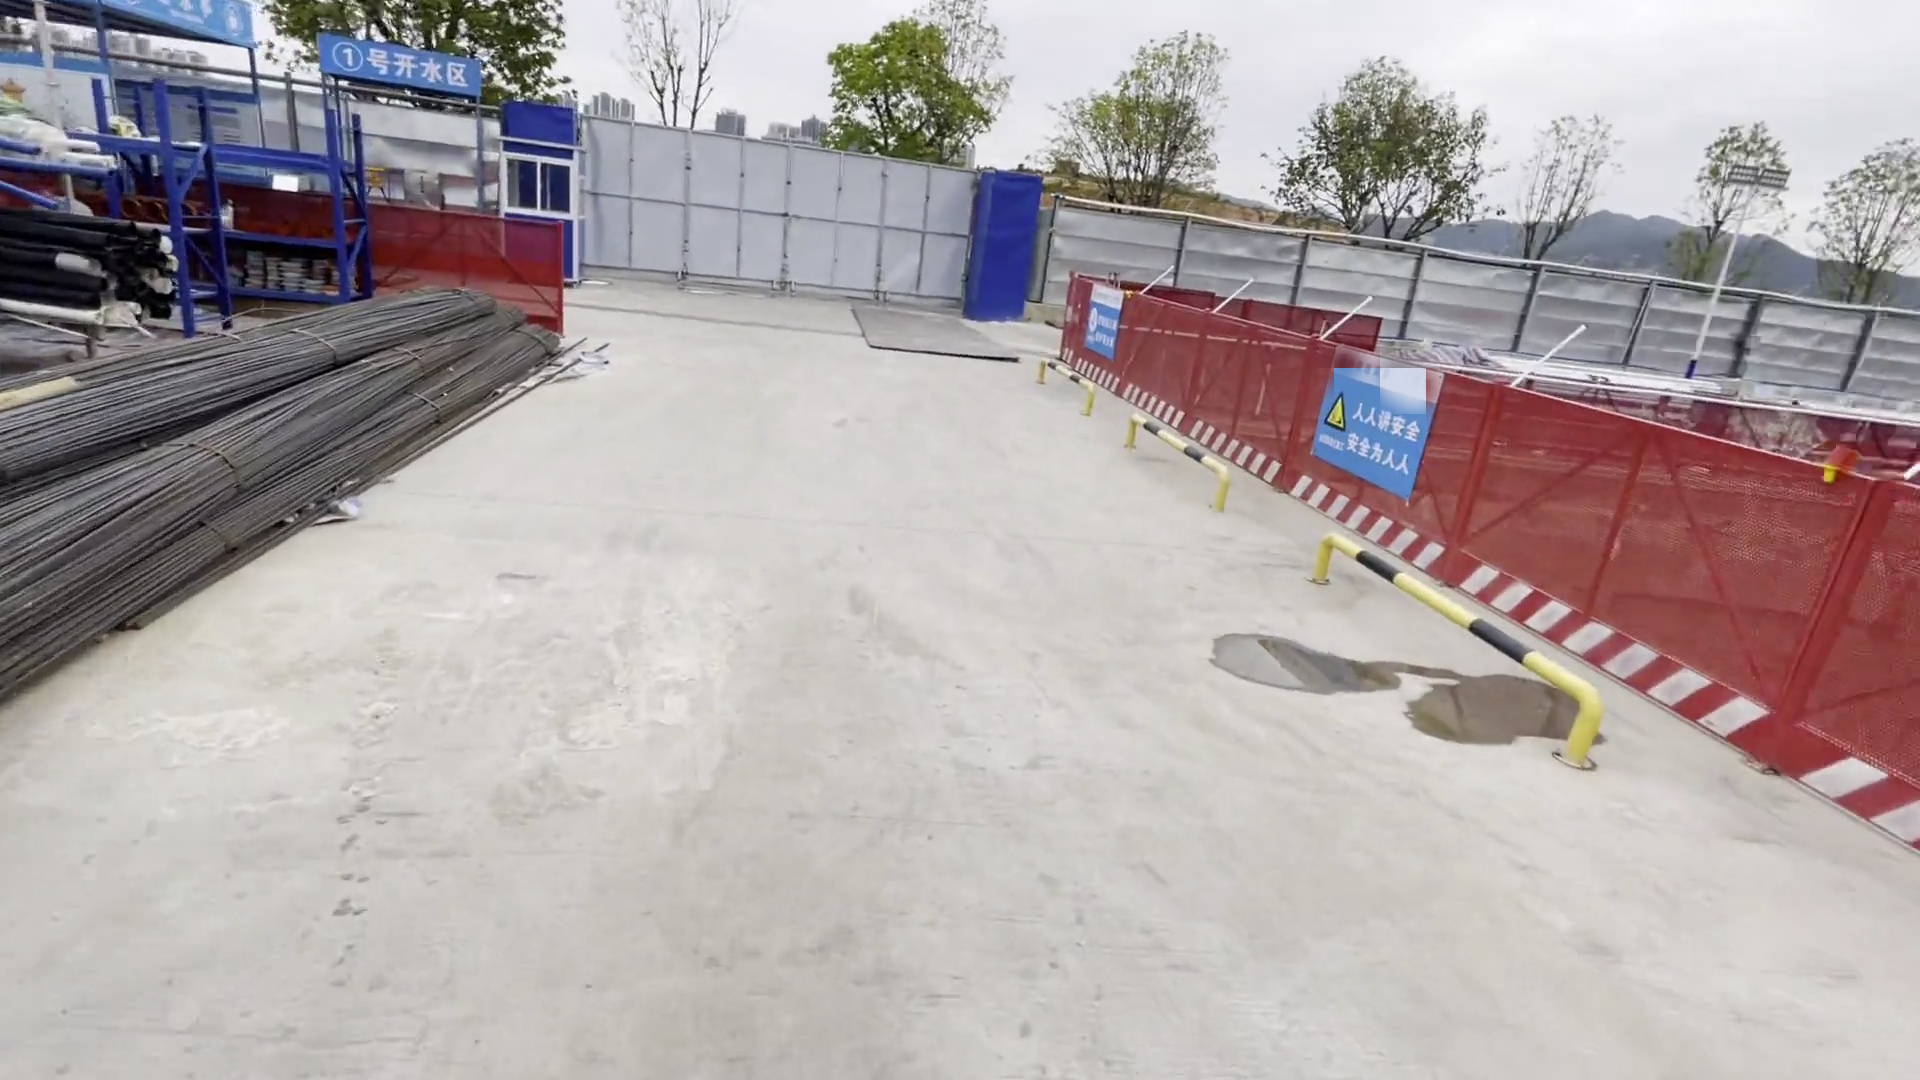ebox: (357, 164, 384, 189)
fence: (1022, 280, 1920, 853), (224, 179, 574, 345)
rebar: (1, 287, 570, 721)
slogan: (1312, 390, 1418, 473), (1084, 305, 1117, 349)
